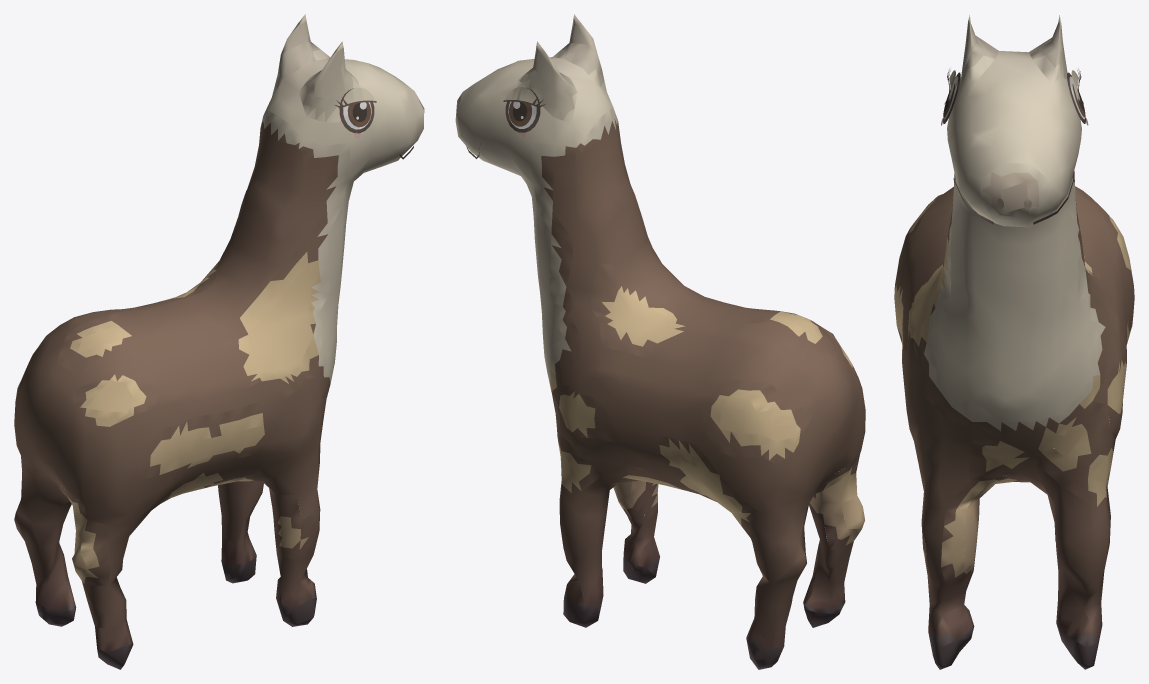
File: cocoa_llama.glb
The picture shows the model from 3 angles, left to right: view 1: azimuth 30°, elevation 25°; view 2: azimuth 150°, elevation 25°; view 3: azimuth 270°, elevation 25°; orthographic projection. The views are drawn at different scales.
Visible parts, largest first — view 1: cocoa_llama; view 2: cocoa_llama; view 3: cocoa_llama.
Boxes of the visible parts, <box> form: cocoa_llama: <box>14,14,424,669</box>; cocoa_llama: <box>455,14,865,669</box>; cocoa_llama: <box>894,15,1134,669</box>.
Size of the model in its own units: 0.9198 by 1.28 by 0.4068.
